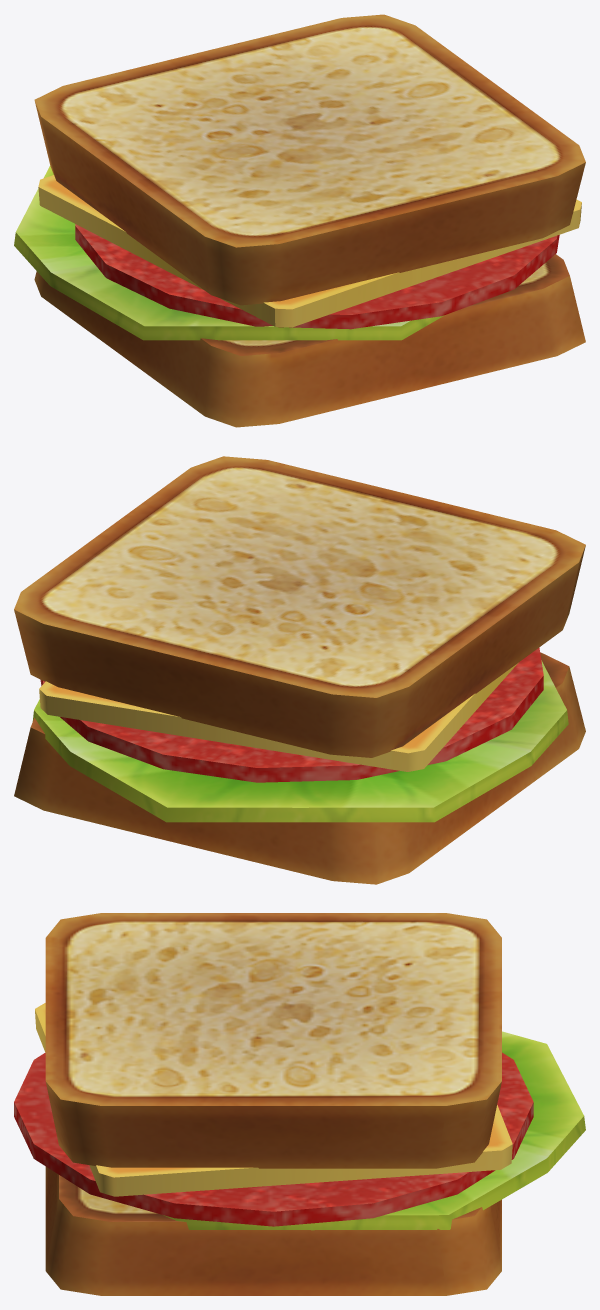
Rendered from SE_Sandwich_01.fbx.
3 views of the same model, one above another, from view 1: azimuth 30°, elevation 25°; view 2: azimuth 150°, elevation 25°; view 3: azimuth 270°, elevation 25° (orthographic). The views are drawn at different scales.
Visible parts, largest first — view 1: SE_Sandwich_01; view 2: SE_Sandwich_01; view 3: SE_Sandwich_01.
Part boxes in pixels (bbox=[...]): SE_Sandwich_01: bbox=[14, 14, 585, 427]; SE_Sandwich_01: bbox=[14, 456, 585, 884]; SE_Sandwich_01: bbox=[14, 913, 585, 1295].
Bounding box in the file's own units: 1.78 × 0.6599 × 1.8.
